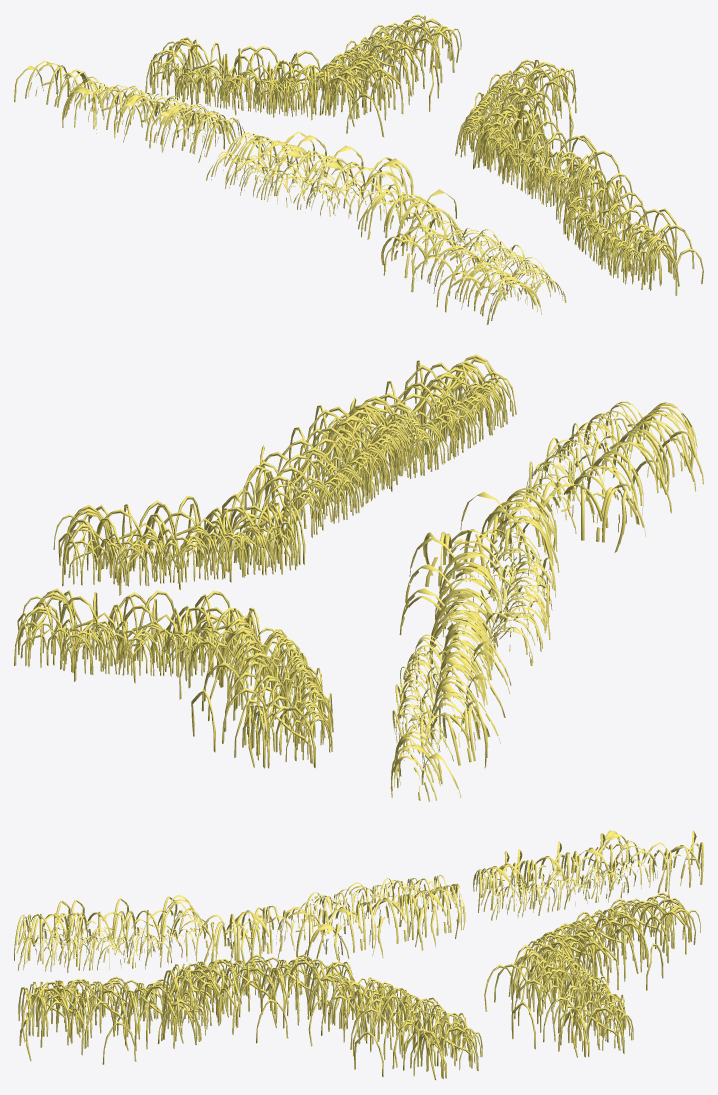
File: Roots_Small_MAngrove.fbx
3 renders of one model, top to bottom at view 1: azimuth 30°, elevation 25°; view 2: azimuth 150°, elevation 25°; view 3: azimuth 270°, elevation 25°, orthographic. The views are drawn at different scales.
Parts seen in each view (by area): view 1: Wood.003; view 2: Wood.003; view 3: Wood.003.
Part boxes in pixels (bbox=[...]): Wood.003: bbox=[14, 14, 703, 324]; Wood.003: bbox=[14, 354, 703, 801]; Wood.003: bbox=[14, 830, 703, 1080].
Bounding box in the file's own units: 4187 × 730 × 5671.
